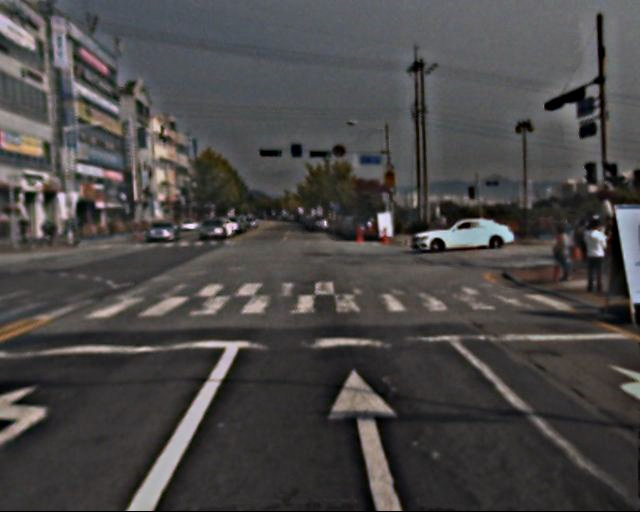person: (571, 222, 610, 299), (543, 226, 572, 286)
